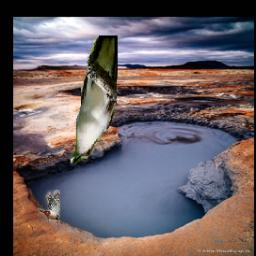Cuckoo: (71, 36, 118, 164)
Woodpecker: (38, 191, 60, 223)
